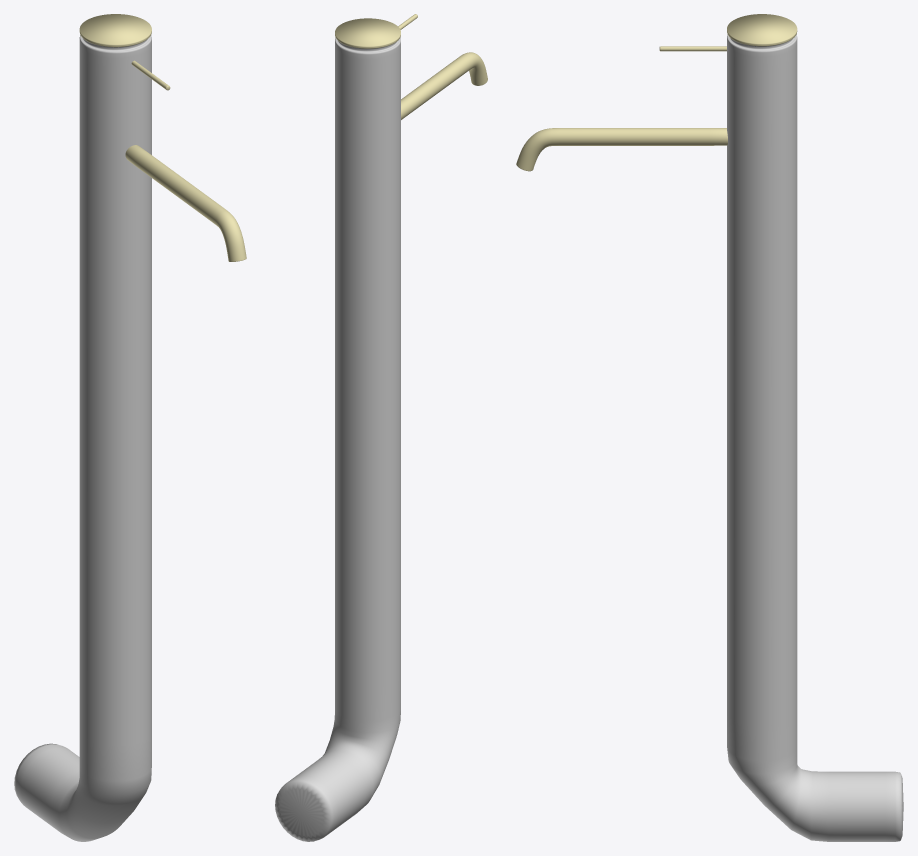
Rendered from tap.fbx.
3 renders of one model, left to right at view 1: azimuth 30°, elevation 25°; view 2: azimuth 150°, elevation 25°; view 3: azimuth 270°, elevation 25°, orthographic. The views are drawn at different scales.
Parts seen in each view (by area): view 1: Cylinder.007; view 2: Cylinder.007; view 3: Cylinder.007.
Part boxes in pixels (box(x1,y1,x2,y2)): Cylinder.007: box(14, 14, 246, 841); Cylinder.007: box(275, 14, 487, 841); Cylinder.007: box(516, 14, 903, 841).
Bounding box in the file's own units: 17.88 × 227 × 98.46.
